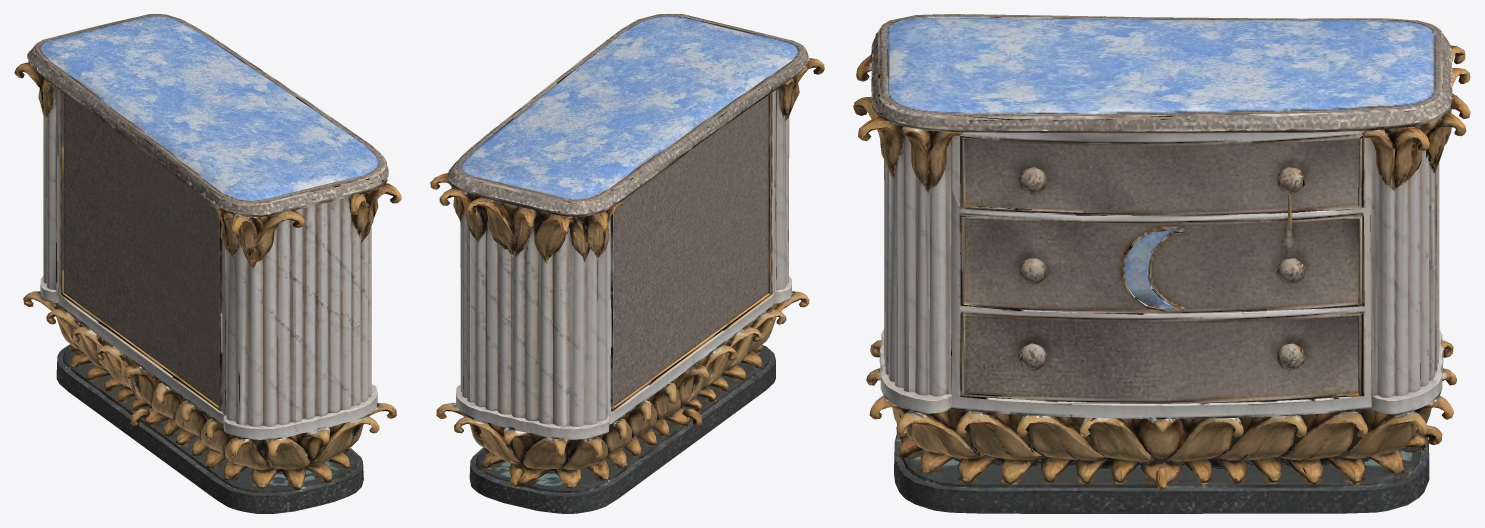
Rendered from SE-03_dresser_game.glb.
3 renders of one model, left to right at view 1: azimuth 30°, elevation 25°; view 2: azimuth 150°, elevation 25°; view 3: azimuth 270°, elevation 25°, orthographic. The views are drawn at different scales.
Visible parts, largest first — view 1: SE-03_dresser; view 2: SE-03_dresser; view 3: SE-03_dresser.
Boxes of the visible parts, left/top/right/bottom form: SE-03_dresser: left=14, top=14, right=401, bottom=513; SE-03_dresser: left=430, top=14, right=824, bottom=513; SE-03_dresser: left=853, top=14, right=1470, bottom=513.
Bounding box in the file's own units: 0.5099 × 0.8798 × 1.2.
Materials: 1 (1 with a texture image).
